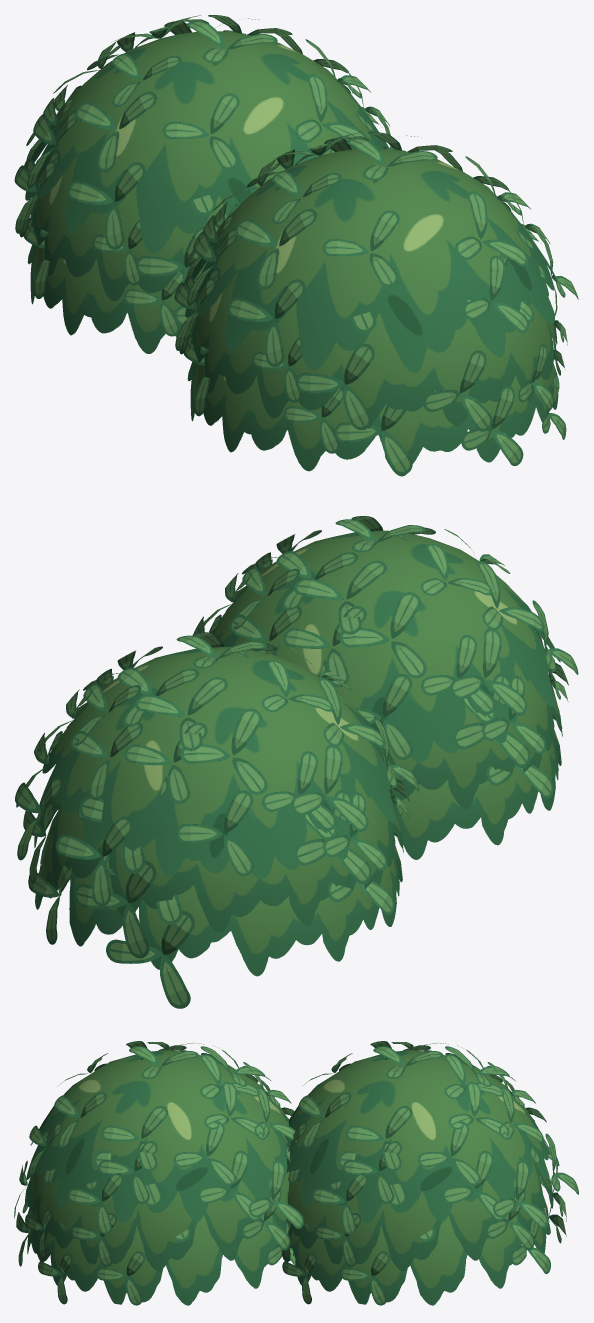
The model's file is TwoBush.fbx.
The picture shows the model from 3 angles, top to bottom: view 1: azimuth 30°, elevation 25°; view 2: azimuth 150°, elevation 25°; view 3: azimuth 270°, elevation 25°; orthographic projection. The views are drawn at different scales.
Parts seen in each view (by area): view 1: Sphere.003; view 2: Sphere.003; view 3: Sphere.003.
Part boxes in pixels (left/top/right/bottom): Sphere.003: left=14, top=15, right=578, bottom=476; Sphere.003: left=15, top=516, right=578, bottom=1008; Sphere.003: left=14, top=1041, right=578, bottom=1305.
Bounding box in the file's own units: 215 × 163 × 394.
